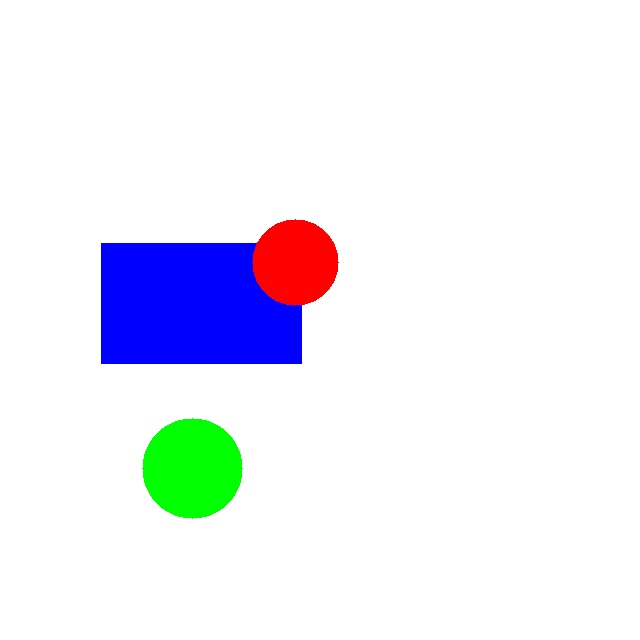cartao: (101, 243, 301, 363)
rosca_externa: (142, 418, 242, 518)
rosca_interna: (252, 219, 338, 305)
